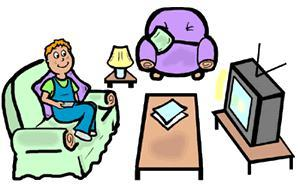diningtable: (136, 91, 205, 180)
person: (35, 37, 99, 143)
sofa: (1, 58, 122, 180), (136, 7, 218, 81)
tvmonitor: (221, 40, 285, 148)
